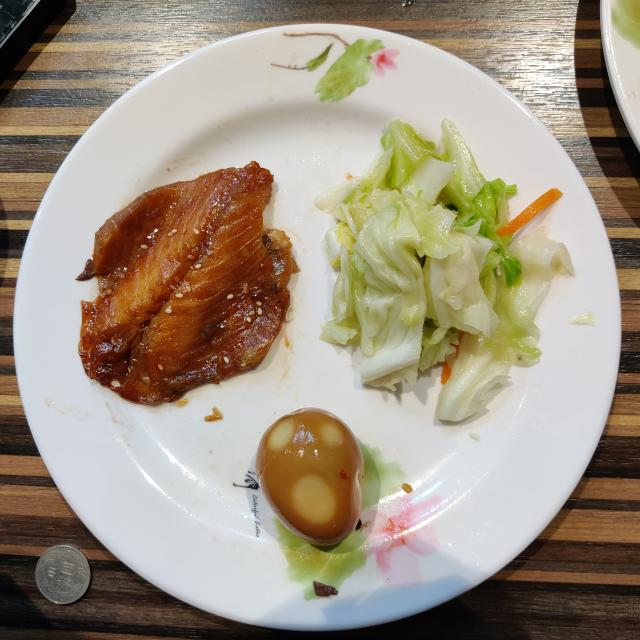Kabayaki sea bream fillet: (78, 161, 294, 404)
cabbage: (315, 119, 574, 421)
coin: (35, 545, 90, 604)
soy egg: (256, 408, 364, 545)
